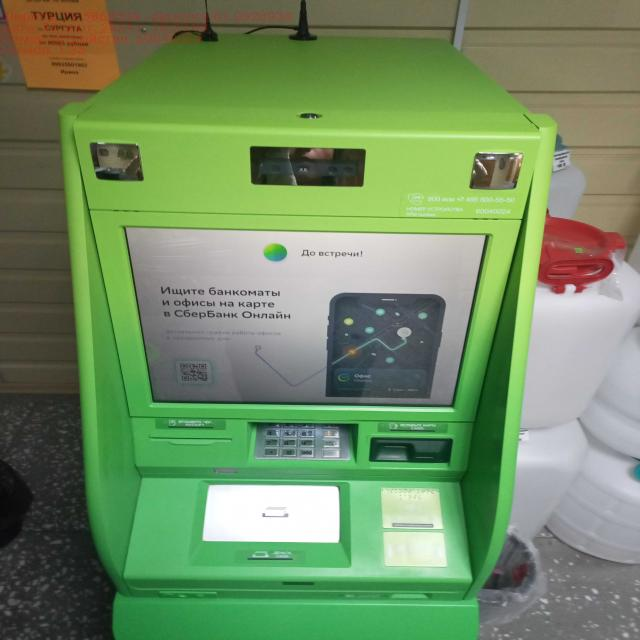bank: (52, 28, 559, 640)
